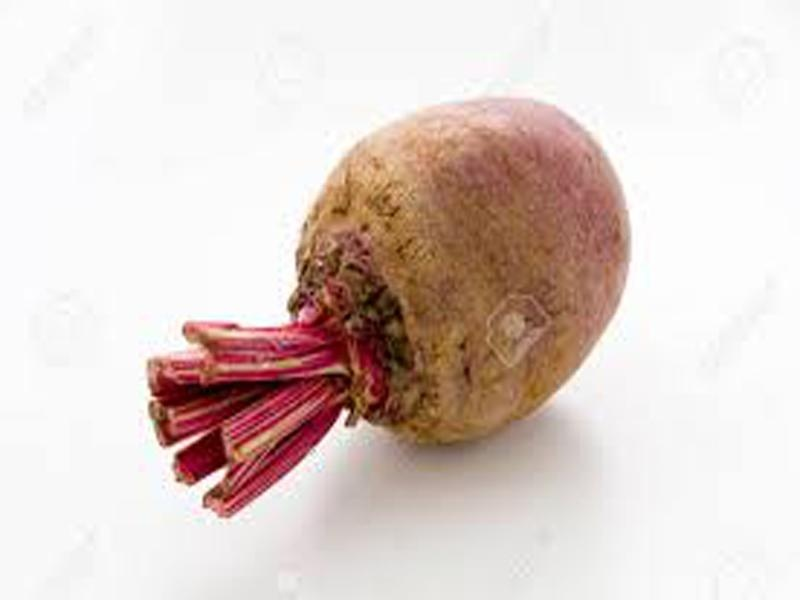beet: (145, 94, 629, 507)
